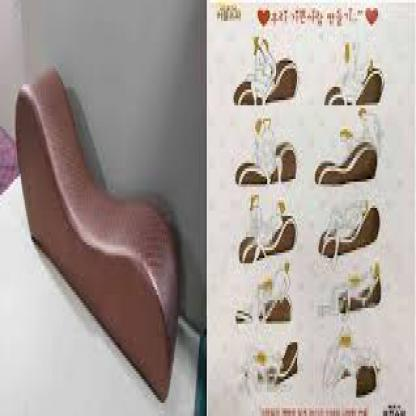sofa: (14, 71, 186, 398)
